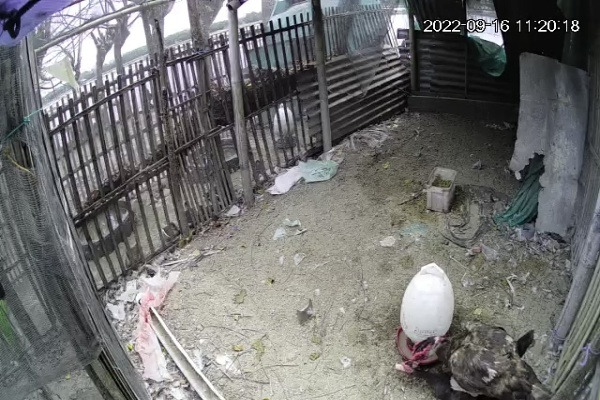Kawin: (386, 313, 557, 400)
